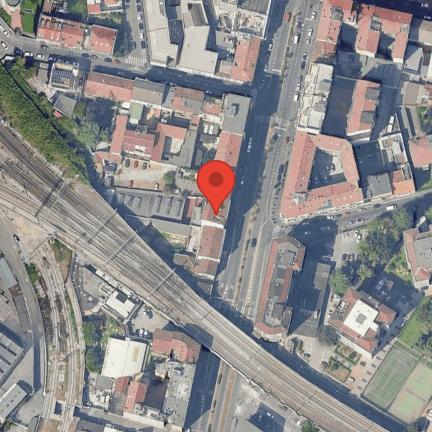area_open: (281, 286, 426, 397), (272, 199, 392, 268), (95, 159, 204, 195), (361, 345, 417, 413)
built: (280, 0, 432, 223), (35, 61, 254, 182), (98, 188, 232, 303), (95, 329, 202, 432), (145, 1, 271, 86), (255, 237, 332, 340), (327, 285, 397, 359), (37, 0, 118, 55), (83, 265, 143, 325), (403, 223, 432, 290), (0, 384, 30, 428), (0, 332, 24, 385), (54, 95, 79, 119), (88, 0, 123, 14)
vegetation_high: (329, 209, 412, 293)
vegetation_low: (0, 60, 118, 187), (389, 294, 432, 431), (361, 239, 418, 309), (66, 0, 129, 57), (84, 307, 125, 373), (0, 0, 44, 37)
